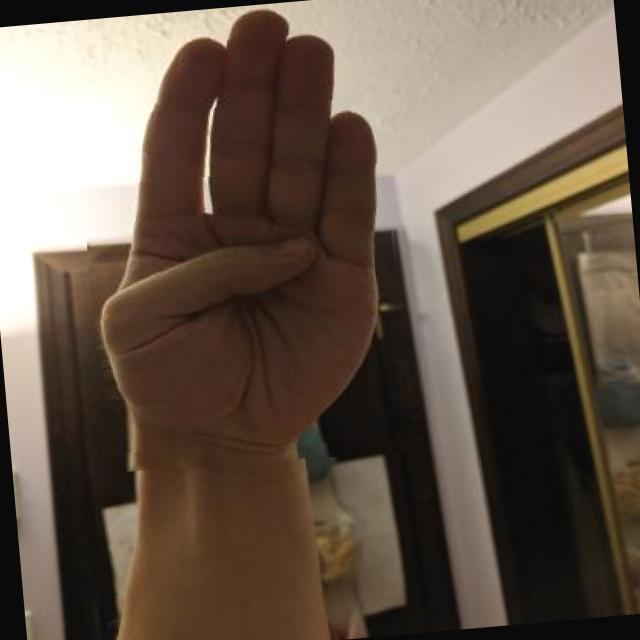B: (67, 0, 417, 477)
